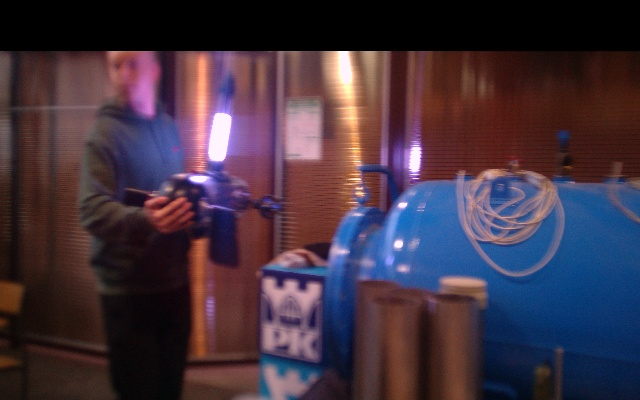white: (208, 113, 231, 162)
